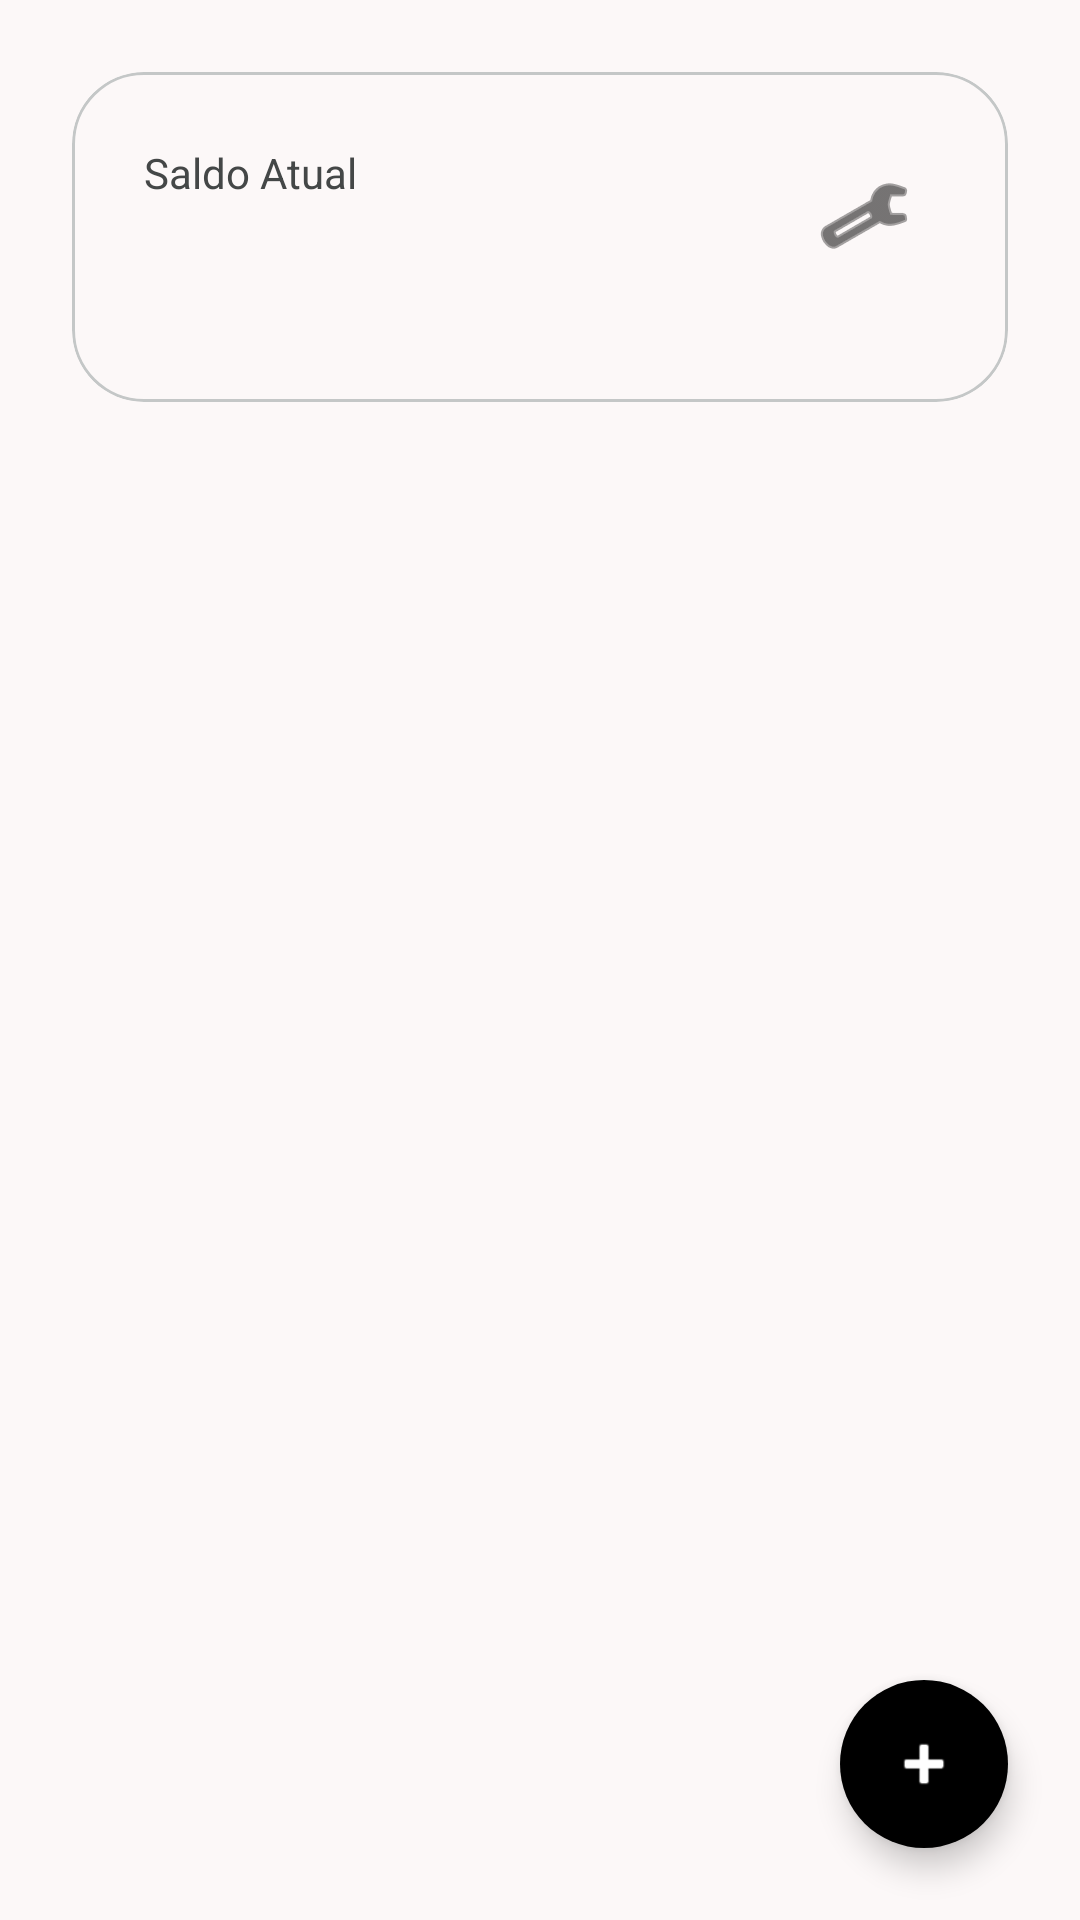

Screen size 1080 × 1920. Icon name, then its center in pixels as [x,y]:
Adicionar transação: [924,1764]
Configurações: [864,216]
